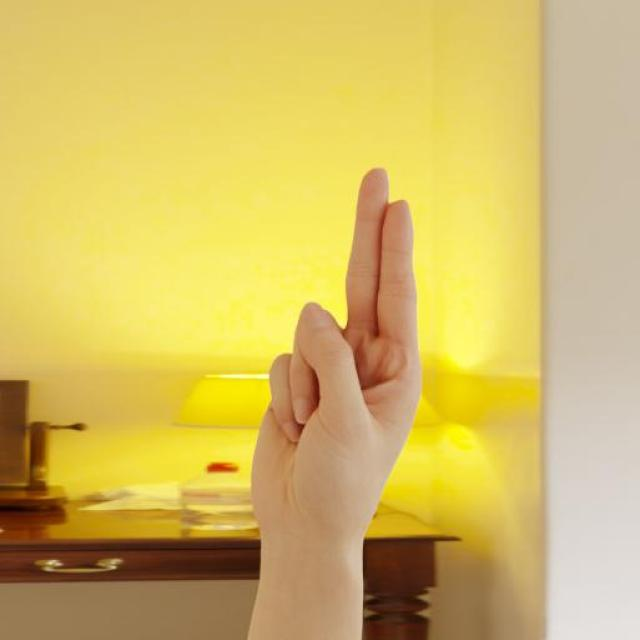U: (248, 152, 429, 568)
